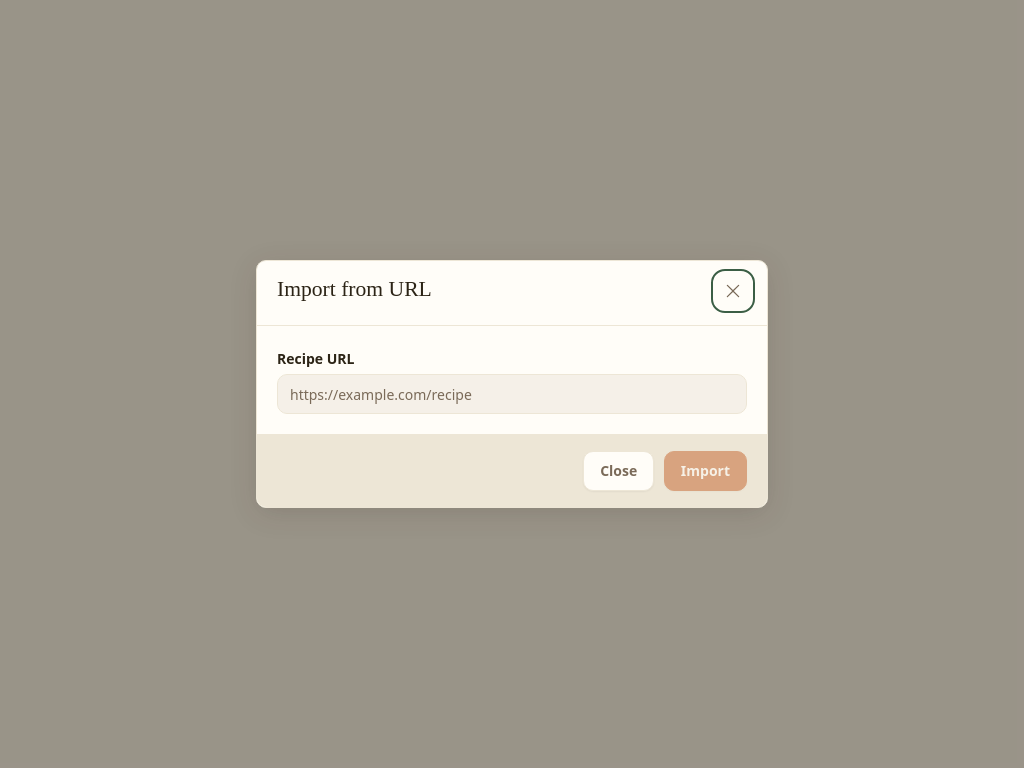
Test: IngestModal › keeps duplicate imports visible and allows retry
In the field labelled "Recipe URL": {"x": 512, "y": 394} [277, 374, 747, 414], type "https://example.com/pasta"
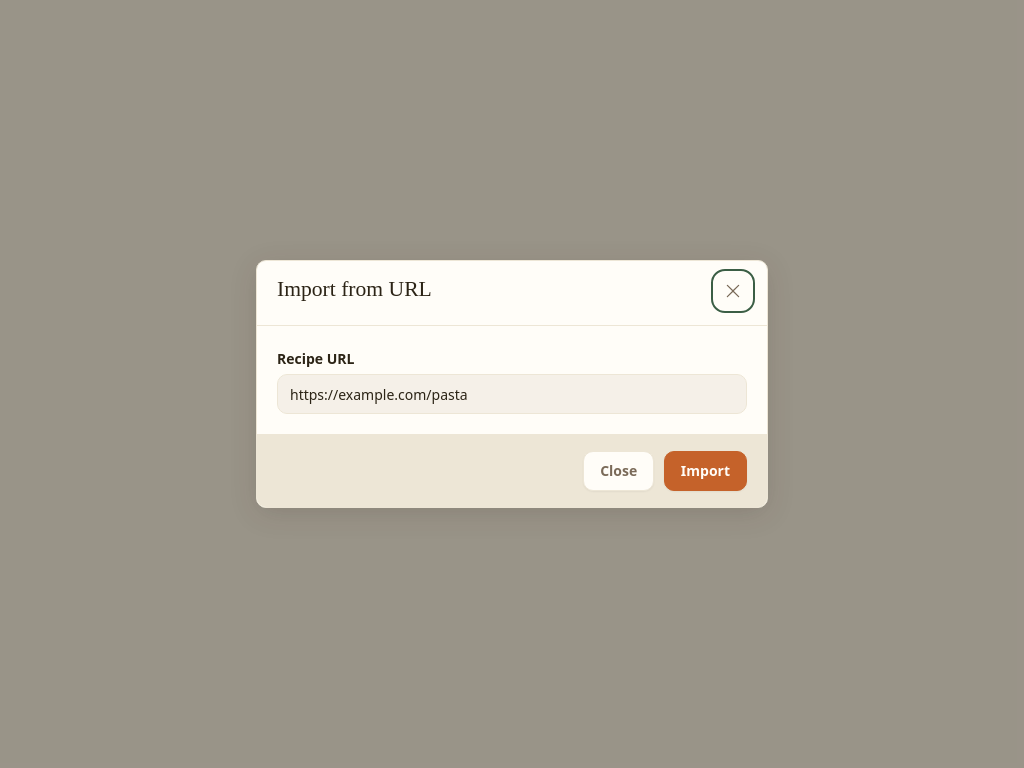
Click the button "Import": {"x": 705, "y": 471} [664, 451, 747, 491]
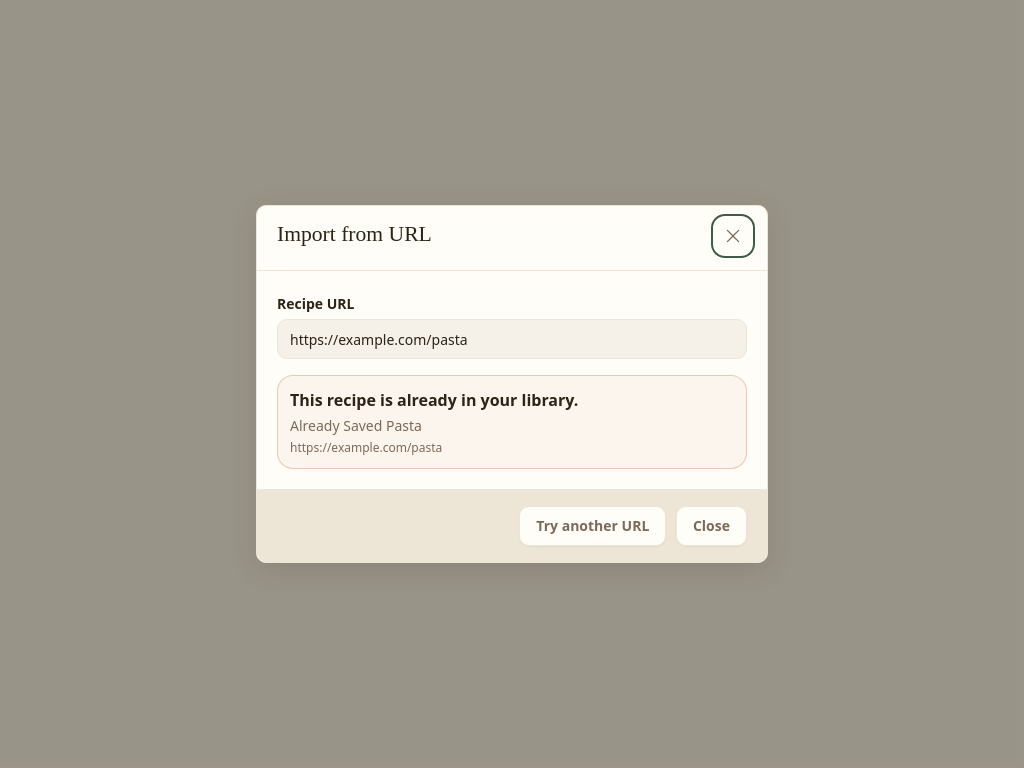
Expected: the text "Already Saved Pasta" is shown, [290, 416, 422, 435]
Click the button "Try another URL": {"x": 593, "y": 526} [519, 506, 666, 546]
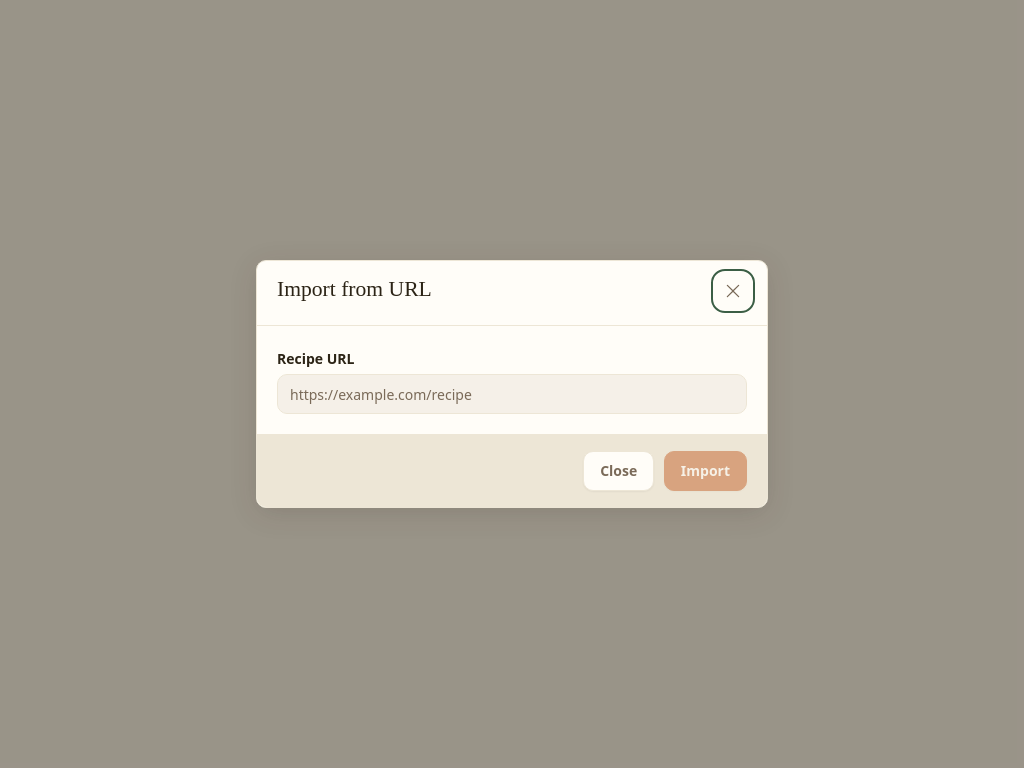
Expected: the text "Already Saved Pasta" is gone
Expected: the field labelled "Recipe URL" is empty, [277, 374, 747, 414]
